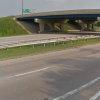Bridge: (14, 7, 100, 30)
